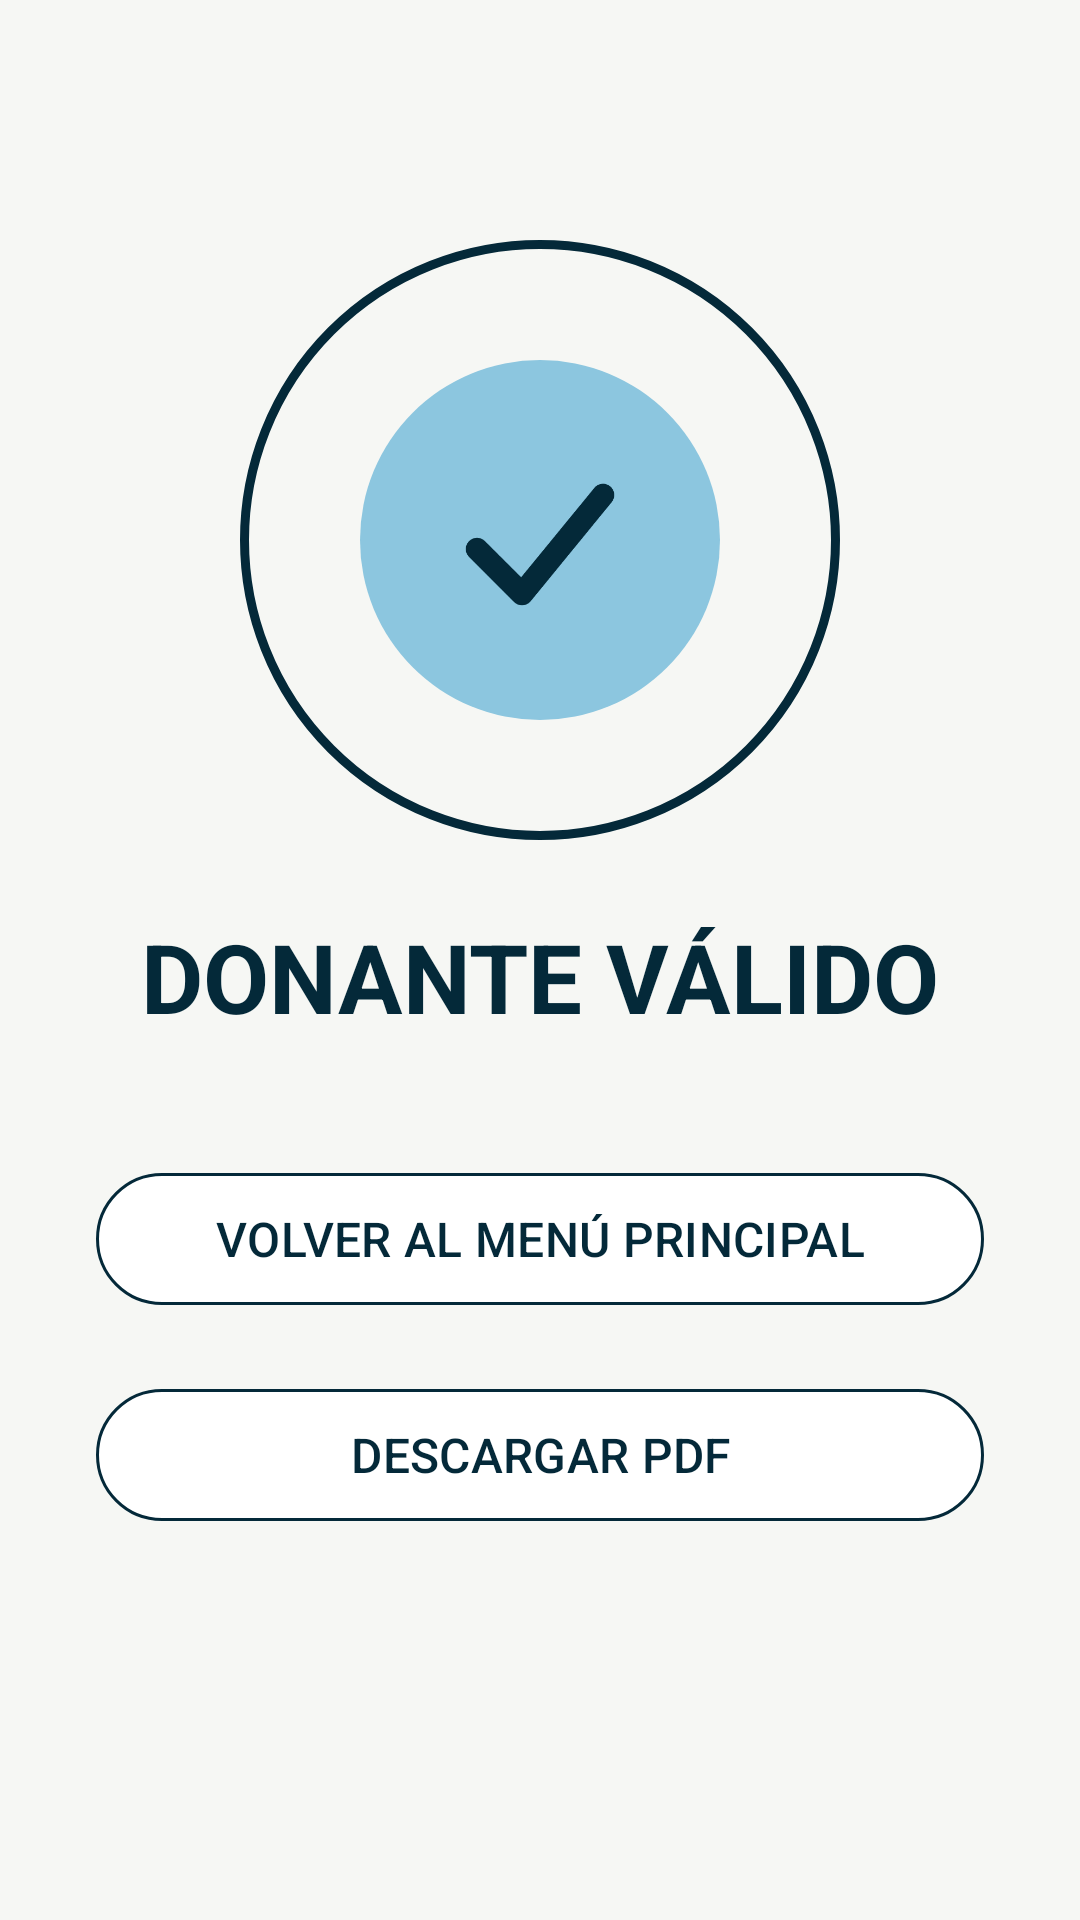

Screen size 1080w x 1920h. Icon name, then its center in pixels as [x,y]:
check: [540,540]
